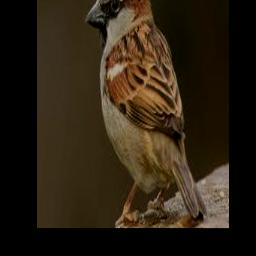Sparrow: (84, 0, 207, 224)
